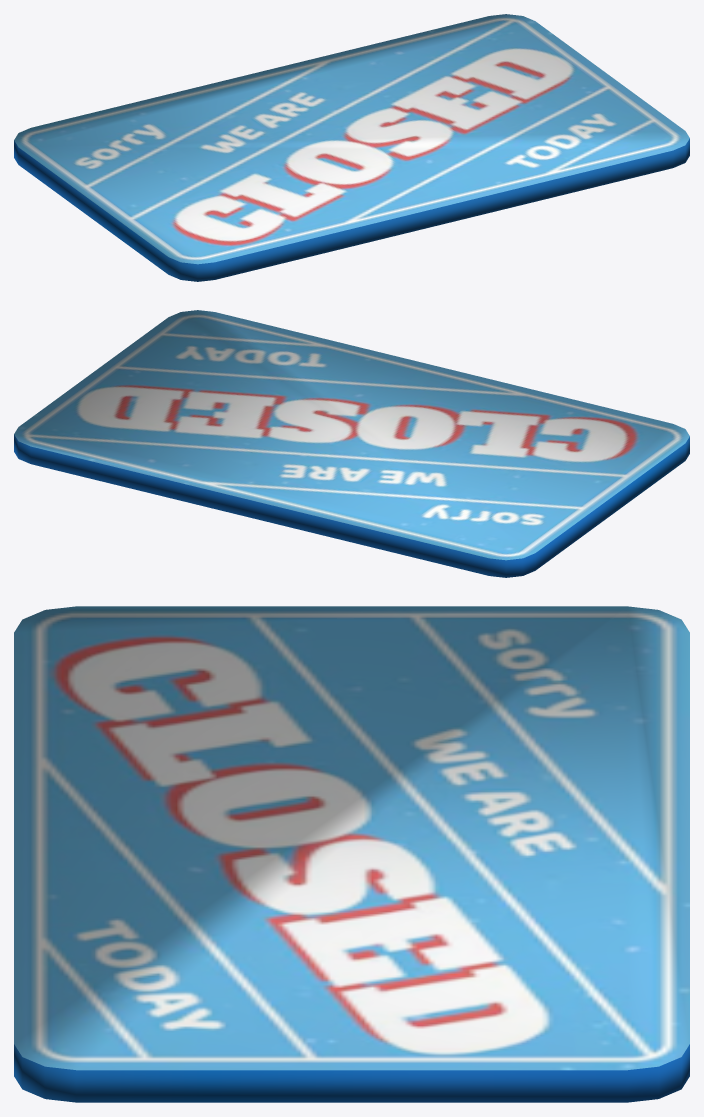
Rendered from sign.fbx.
3 views of the same model, one above another, from view 1: azimuth 30°, elevation 25°; view 2: azimuth 150°, elevation 25°; view 3: azimuth 270°, elevation 25° (orthographic). The views are drawn at different scales.
Parts seen in each view (by area): view 1: Cube.051; view 2: Cube.051; view 3: Cube.051.
Part boxes in pixels (x1=…): Cube.051: x1=14, y1=14, x2=689, y2=281; Cube.051: x1=14, y1=310, x2=689, y2=577; Cube.051: x1=14, y1=606, x2=689, y2=1102.
Bounding box in the file's own units: 30.77 × 1 × 18.95.
Materials: 1 (1 with a texture image).
